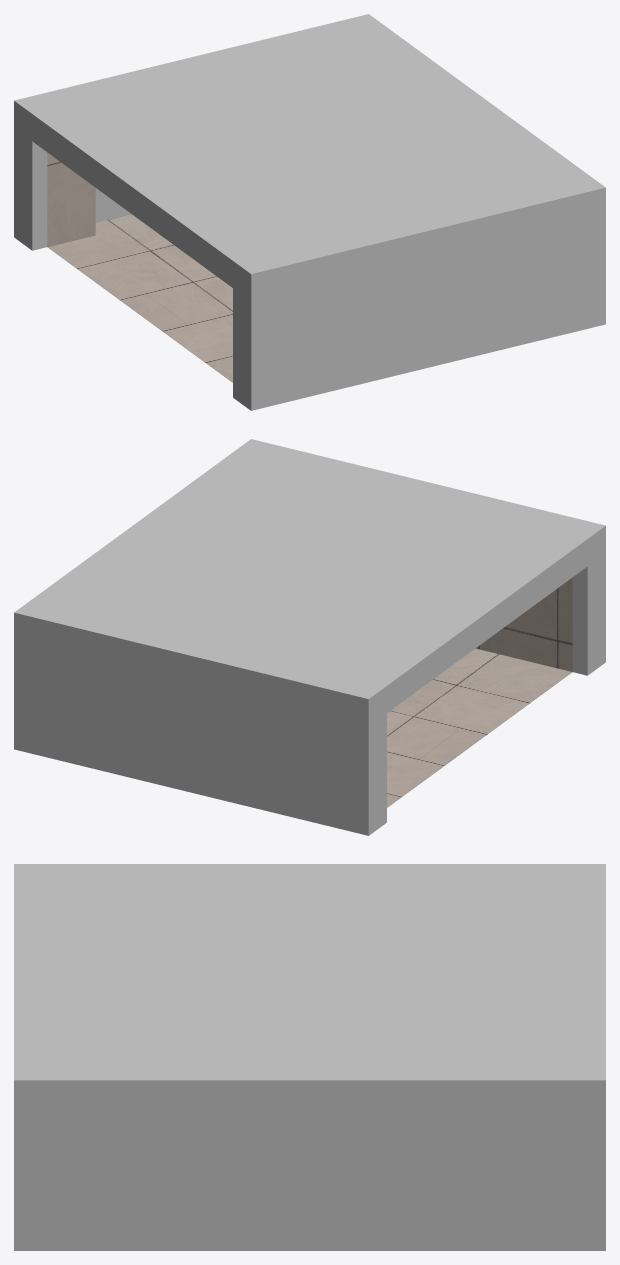
Rendered from SM_KombiniGeo.fbx.
The picture shows the model from 3 angles, top to bottom: view 1: azimuth 30°, elevation 25°; view 2: azimuth 150°, elevation 25°; view 3: azimuth 270°, elevation 25°; orthographic projection. The views are drawn at different scales.
Parts seen in each view (by area): view 1: SM_KombiniGeo_LOD0; view 2: SM_KombiniGeo_LOD0; view 3: SM_KombiniGeo_LOD0.
Boxes of the visible parts, x1,y1,x2,y2 form: SM_KombiniGeo_LOD0: (14, 14, 605, 410); SM_KombiniGeo_LOD0: (14, 439, 605, 835); SM_KombiniGeo_LOD0: (14, 864, 605, 1250).
Size of the model in its own units: 950 by 1100 by 350.
